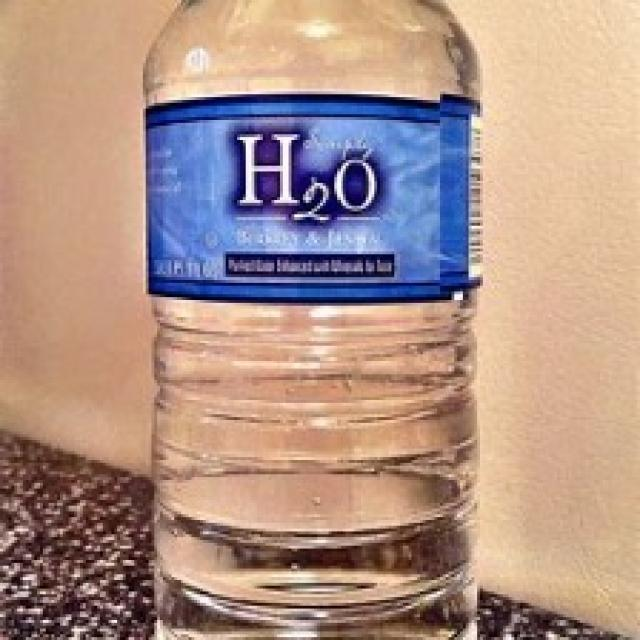plastic_bottle: (142, 2, 480, 632)
